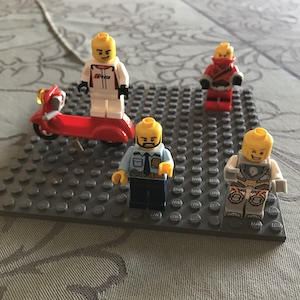Lego: (220, 128, 285, 219), (115, 118, 177, 212), (77, 32, 130, 117), (198, 41, 244, 111)
